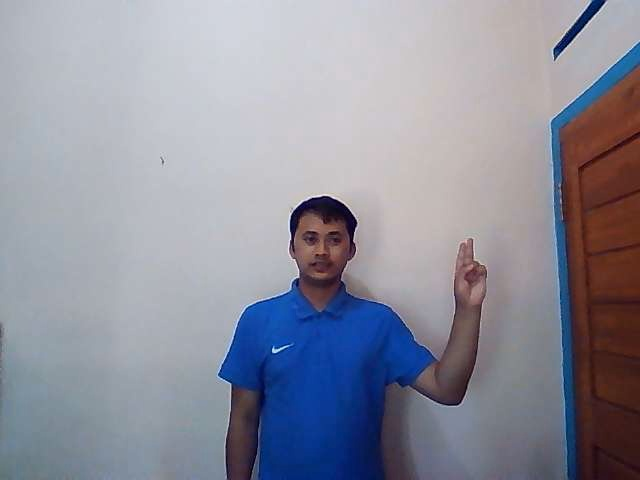U: (451, 236, 488, 307)
